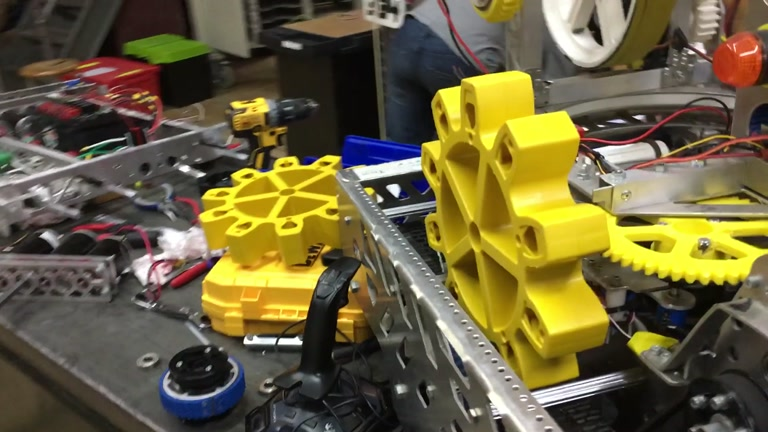gear: (418, 70, 611, 399), (198, 154, 375, 267)
